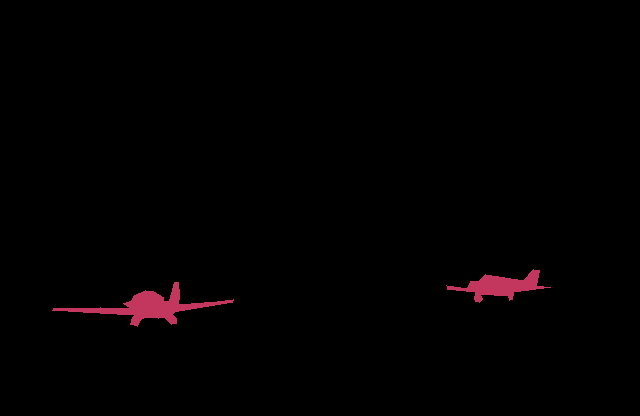Airplane: (52, 282, 233, 326), (446, 269, 550, 303)
